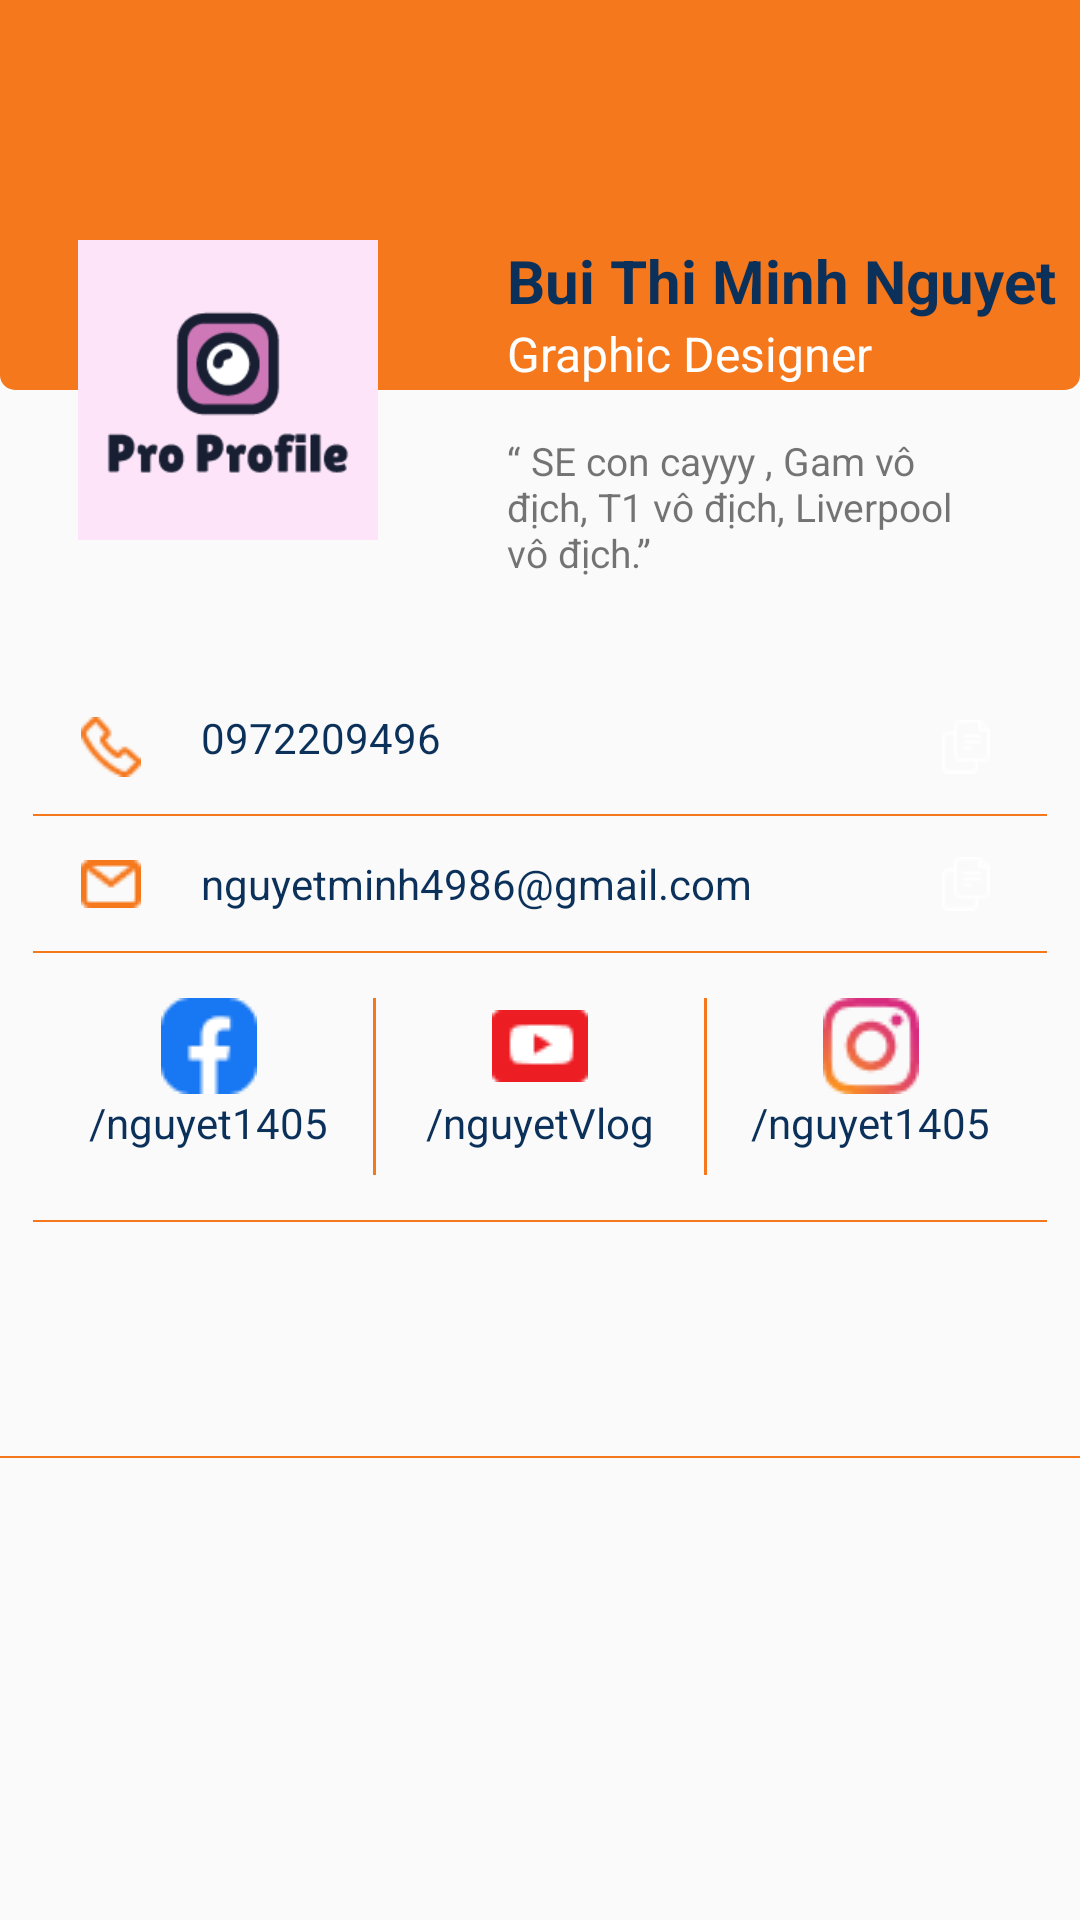

Locate icon controls on the screen. Image size 1080 × 1920, boxes as (x1, y1, x2, y2).
email: (81, 860, 141, 908)
phone: (81, 717, 141, 777)
